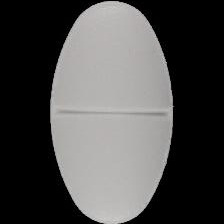68788-0453: (0, 0, 224, 224)
